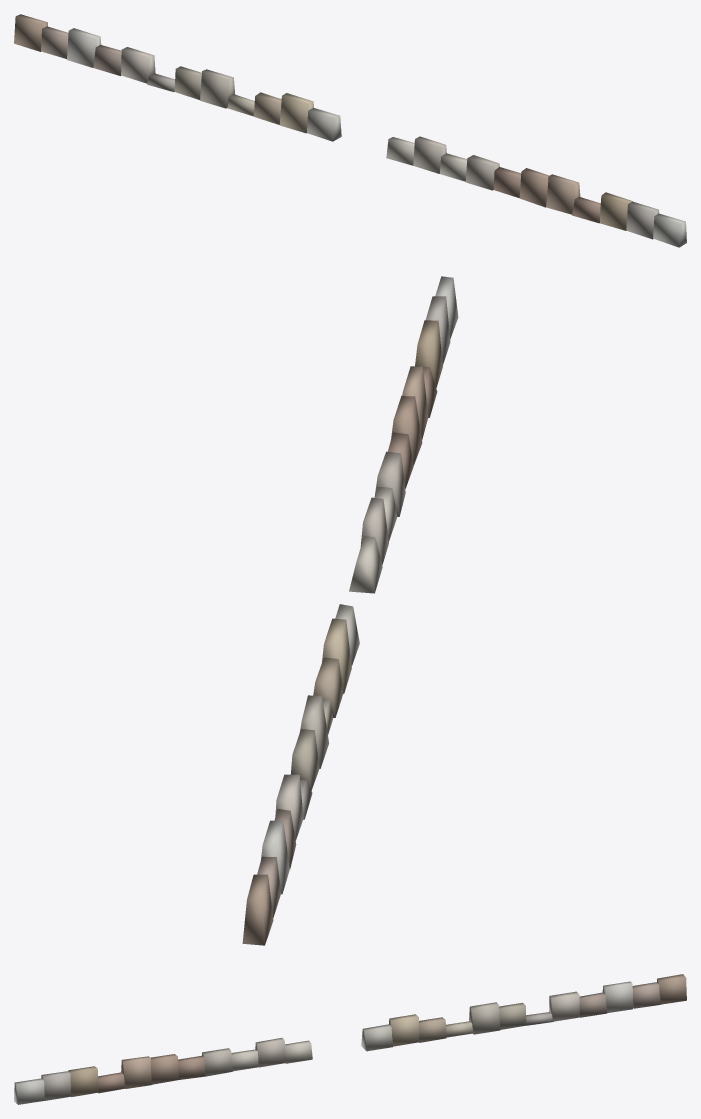
The model's file is farm_-45_-43_far.glb.
3 renders of one model, top to bottom at view 1: azimuth 30°, elevation 25°; view 2: azimuth 150°, elevation 25°; view 3: azimuth 270°, elevation 25°, orthographic. The views are drawn at different scales.
Visible parts, largest first — view 1: geometry_0; view 2: geometry_0; view 3: geometry_0.
Part boxes in pixels (x1,y1,x2,y2): geometry_0: [14, 14, 686, 247]; geometry_0: [242, 276, 458, 945]; geometry_0: [14, 974, 686, 1104].
Bounding box in the file's own units: 15.28 × 2.07 × 36.13.
